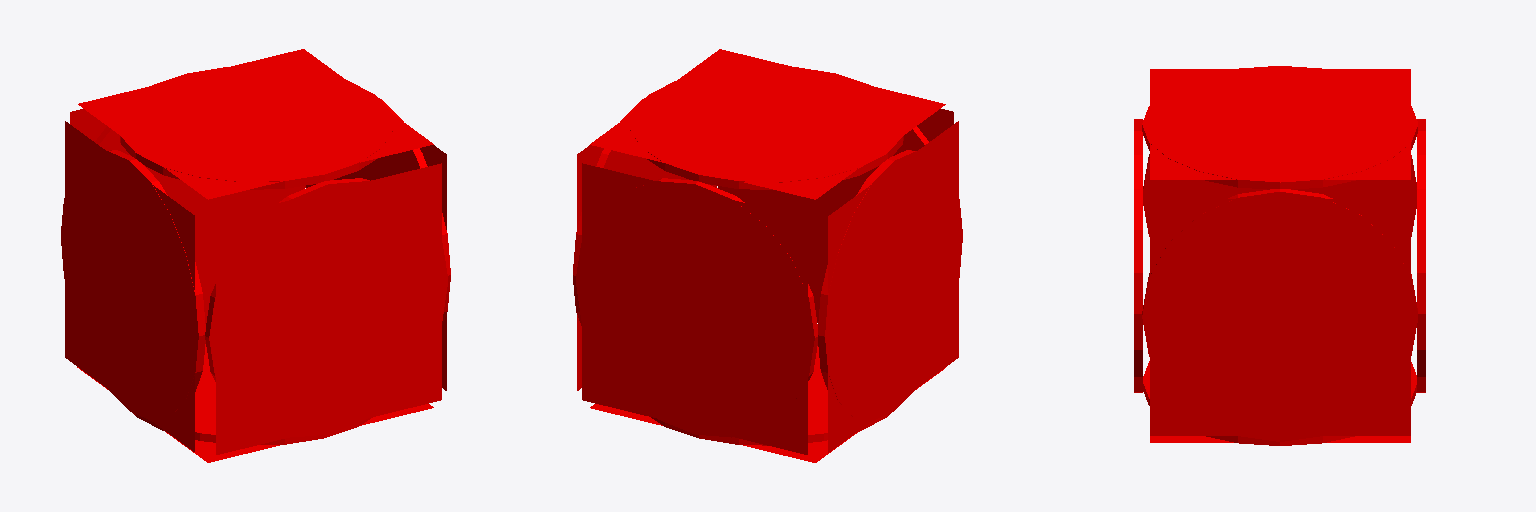
Rendered from game_cube_faces_.obj.
The picture shows the model from 3 angles: view 1: azimuth 30°, elevation 25°; view 2: azimuth 150°, elevation 25°; view 3: azimuth 270°, elevation 25°; orthographic projection.
Parts seen in each view (by area): view 1: Plane001, Cylinder017, Cylinder015, Plane004, Cylinder014, Plane006, Cylinder016, Cylinder013, Cylinder018, Plane005, Plane003, Plane002; view 2: Cylinder014, Cylinder017, Cylinder015, Plane002, Plane004, Cylinder013, Plane006, Cylinder016, Cylinder018, Plane005, Plane003, Plane001; view 3: Cylinder018, Cylinder015, Plane003, Plane006, Cylinder017, Cylinder013, Cylinder014, Cylinder016, Plane005.
Part boxes in pixels (bbox=[...]): Plane001: bbox=[216, 163, 441, 454]; Cylinder017: bbox=[61, 150, 205, 420]; Cylinder015: bbox=[118, 66, 392, 189]; Plane004: bbox=[65, 121, 194, 451]; Cylinder014: bbox=[95, 126, 305, 323]; Plane006: bbox=[78, 49, 433, 199]; Cylinder016: bbox=[133, 344, 372, 444]; Cylinder013: bbox=[205, 178, 447, 436]; Cylinder018: bbox=[306, 98, 450, 324]; Plane005: bbox=[77, 367, 433, 462]; Plane003: bbox=[420, 145, 446, 390]; Plane002: bbox=[70, 109, 106, 141]; Cylinder014: bbox=[576, 178, 817, 437]; Cylinder017: bbox=[818, 150, 962, 420]; Cylinder015: bbox=[630, 66, 904, 189]; Plane002: bbox=[582, 163, 807, 454]; Plane004: bbox=[828, 121, 958, 452]; Cylinder013: bbox=[718, 126, 928, 322]; Plane006: bbox=[590, 49, 945, 199]; Cylinder016: bbox=[651, 346, 890, 445]; Cylinder018: bbox=[573, 98, 716, 325]; Plane005: bbox=[590, 367, 945, 462]; Plane003: bbox=[577, 145, 603, 390]; Plane001: bbox=[917, 109, 953, 141]; Cylinder018: bbox=[1142, 189, 1417, 441]; Cylinder015: bbox=[1142, 66, 1417, 189]; Plane003: bbox=[1150, 199, 1410, 435]; Plane006: bbox=[1150, 69, 1410, 179]; Cylinder017: bbox=[1143, 154, 1416, 236]; Cylinder013: bbox=[1134, 119, 1142, 392]; Cylinder014: bbox=[1417, 119, 1425, 392]; Cylinder016: bbox=[1143, 361, 1416, 445]; Plane005: bbox=[1150, 436, 1410, 442].
Bounding box in the file's own units: 0.9913 × 0.9902 × 0.9918.